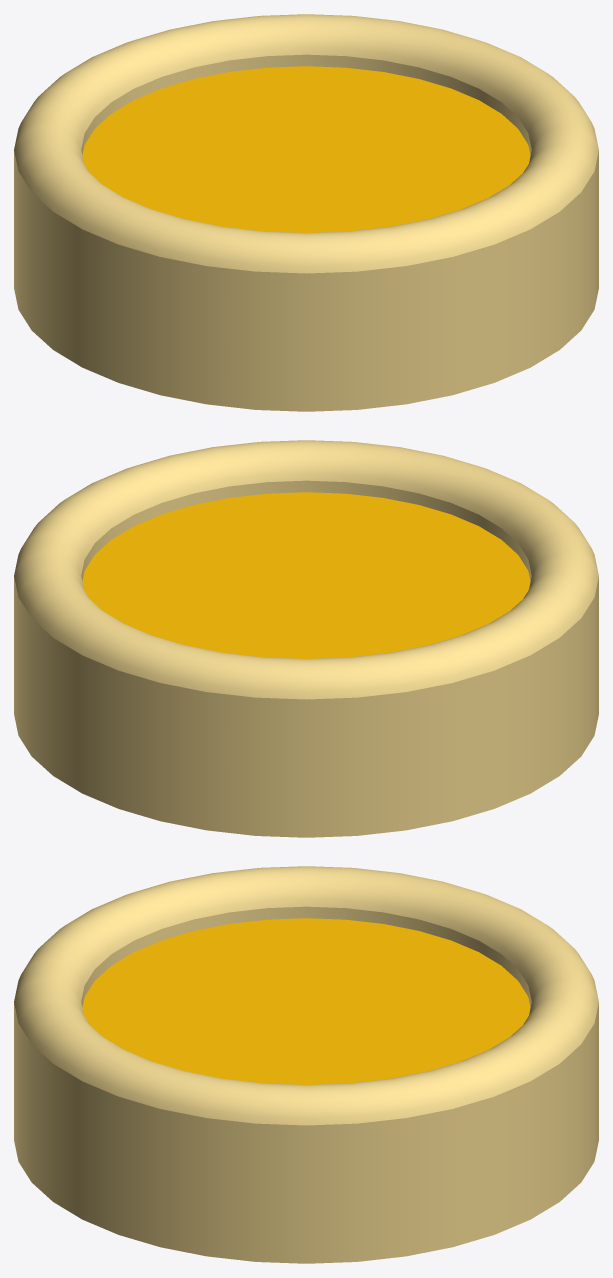
The model's file is SliderTimeOfDay.fbx.
3 renders of one model, top to bottom at view 1: azimuth 30°, elevation 25°; view 2: azimuth 150°, elevation 25°; view 3: azimuth 270°, elevation 25°, orthographic.
Parts seen in each view (by area): view 1: Group1; view 2: Group1; view 3: Group1.
Part boxes in pixels (box(x1,y1,x2,y2)): Group1: box(14, 14, 598, 411); Group1: box(14, 440, 598, 837); Group1: box(14, 866, 598, 1263).
Bounding box in the file's own units: 46 × 14 × 46.
